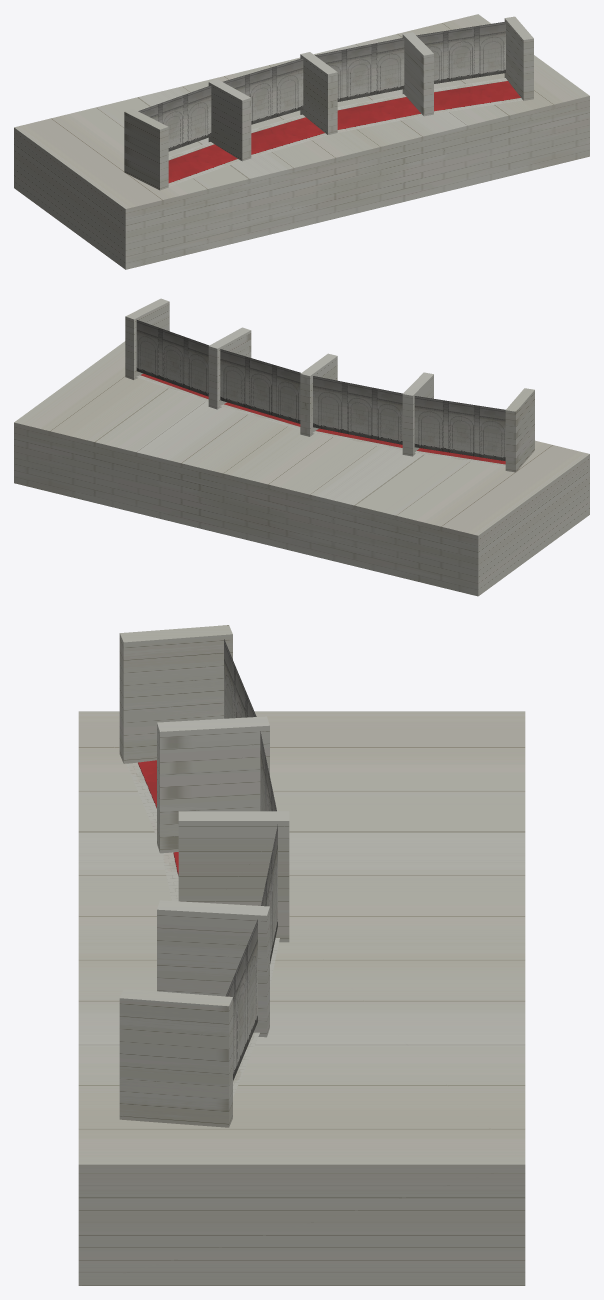
File: BGset1.fbx
3 renders of one model, top to bottom at view 1: azimuth 30°, elevation 25°; view 2: azimuth 150°, elevation 25°; view 3: azimuth 270°, elevation 25°, orthographic. The views are drawn at different scales.
Parts seen in each view (by area): view 1: pCube1, pPlane5, pPlane2, dhu_rab_game2_BG1:pPlane2, pCube5, pCube4, pPlane6, pCube2, pCube3, pPlane3, pPlane1, pCube6 (+2 smaller); view 2: pCube1, pPlane6, dhu_rab_game2_BG1:pPlane2, pPlane2, pPlane5, pCube5, pCube6, pCube3, pCube2, pCube4, pPlane4, dhu_rab_game2_BG1:pPlane1 (+2 smaller); view 3: pCube1, pCube6, pCube5, pCube4, pCube2, pCube3, pPlane5, pPlane6, pPlane4, pPlane2.
Boxes of the visible parts, box(x1,y1,x2,y2) form: pCube1: box(14, 14, 589, 269); pPlane5: box(416, 21, 505, 83); pPlane2: box(315, 37, 404, 101); dhu_rab_game2_BG1:pPlane2: box(223, 58, 303, 124); pCube5: box(124, 109, 168, 190); pCube4: box(208, 79, 251, 161); pPlane6: box(138, 85, 211, 151); pCube2: box(300, 52, 337, 134); pCube3: box(402, 32, 433, 116); pPlane3: box(434, 78, 522, 113); pPlane1: box(337, 94, 422, 132); pCube6: box(504, 16, 533, 100); pCube1: box(14, 341, 589, 596); pPlane6: box(414, 396, 505, 460); dhu_rab_game2_BG1:pPlane2: box(313, 376, 402, 444); pPlane2: box(220, 349, 300, 423); pPlane5: box(136, 320, 208, 396); pCube5: box(505, 388, 534, 472); pCube6: box(125, 298, 169, 379); pCube3: box(208, 327, 251, 409); pCube2: box(300, 353, 337, 436); pCube4: box(402, 372, 433, 456); pPlane4: box(415, 448, 505, 466); dhu_rab_game2_BG1:pPlane1: box(313, 428, 402, 450); pCube1: box(78, 711, 525, 1285); pCube6: box(119, 989, 232, 1127); pCube5: box(119, 625, 232, 763); pCube4: box(157, 716, 269, 853); pCube2: box(178, 811, 289, 942); pCube3: box(157, 900, 269, 1037); pPlane5: box(225, 919, 257, 1080); pPlane6: box(224, 639, 256, 718); pPlane4: box(126, 760, 156, 836); pPlane2: box(261, 824, 277, 963).
Bounding box in the file's own units: 24 × 6.01 × 10.
